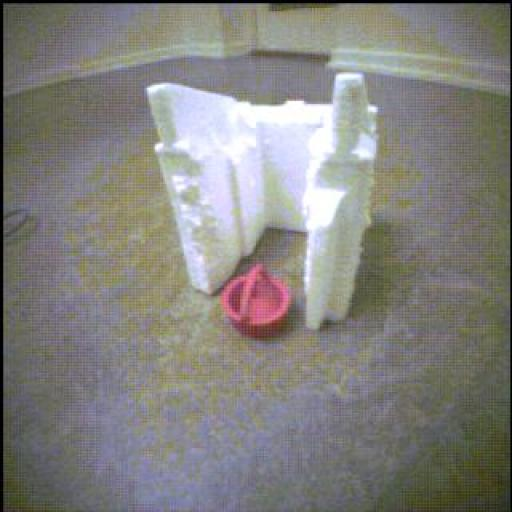Bucket: (222, 265, 292, 339)
